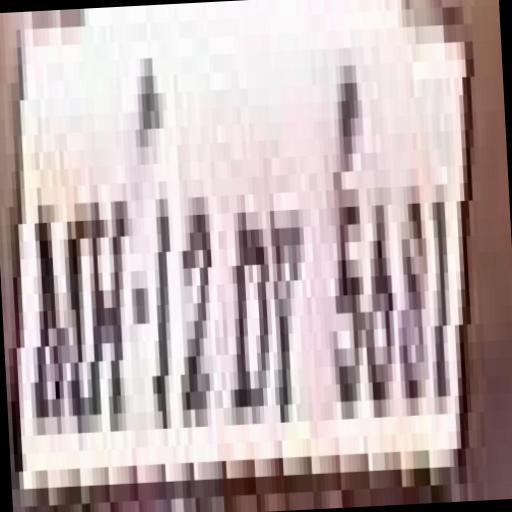number plate: (0, 6, 496, 507)
